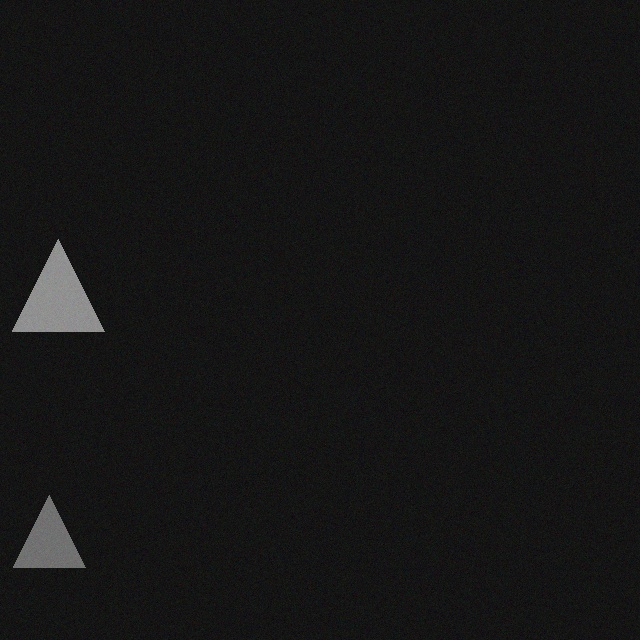triangle: (8, 229, 100, 321), (9, 485, 81, 557)
